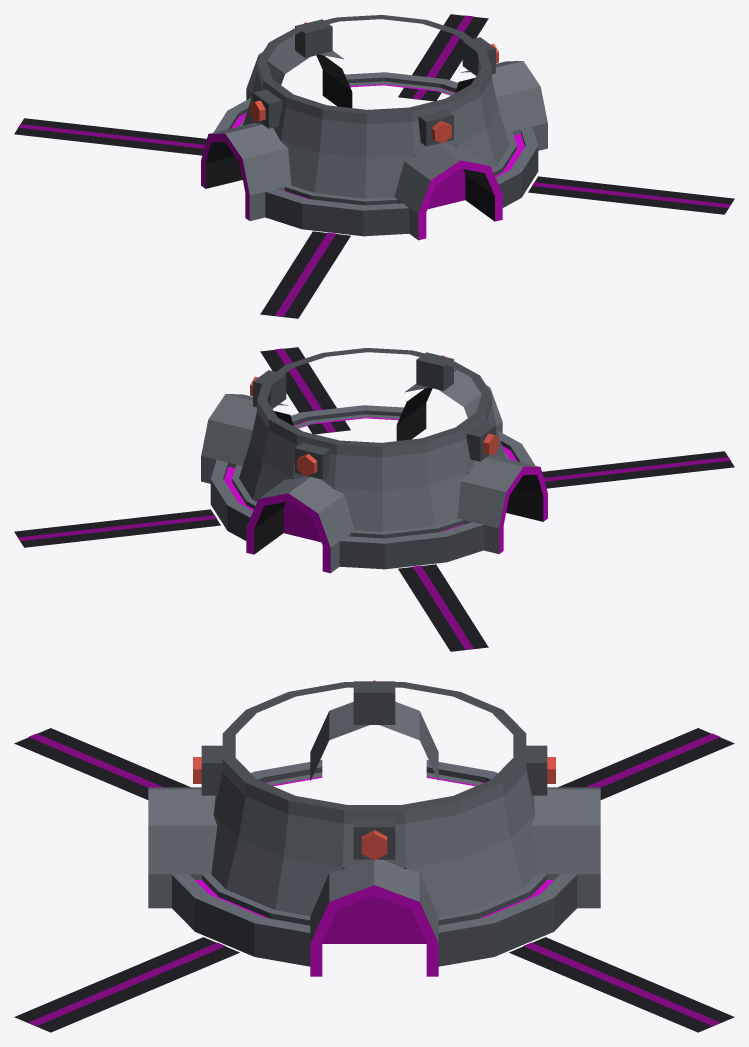
File: tube_entrance_v2.glb
3 views of the same model, one above another, from view 1: azimuth 30°, elevation 25°; view 2: azimuth 150°, elevation 25°; view 3: azimuth 270°, elevation 25° (orthographic). The views are drawn at different scales.
Visible parts, largest first — view 1: Tube_Entrance; view 2: Tube_Entrance; view 3: Tube_Entrance.
Boxes of the visible parts, bbox=[...] form: Tube_Entrance: bbox=[14, 14, 734, 318]; Tube_Entrance: bbox=[14, 347, 734, 651]; Tube_Entrance: bbox=[14, 680, 734, 1032].
Size of the model in its own units: 4.84 by 1 by 4.84.
